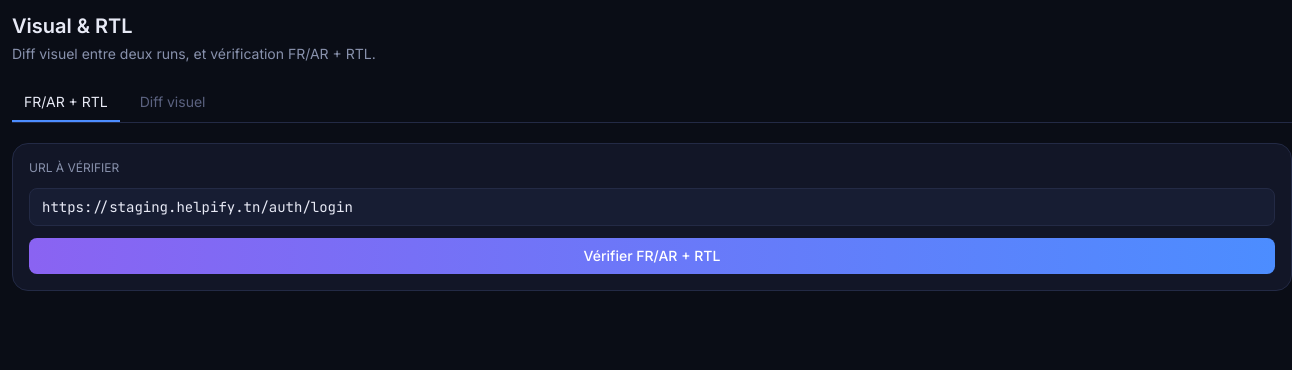
Visual/RTL : onglet FR/AR + RTL › erreur du serveur
The image size is (1292, 370).
Click the button "Vérifier FR/AR + RTL" at x=652, y=256, box [29, 238, 1275, 274]
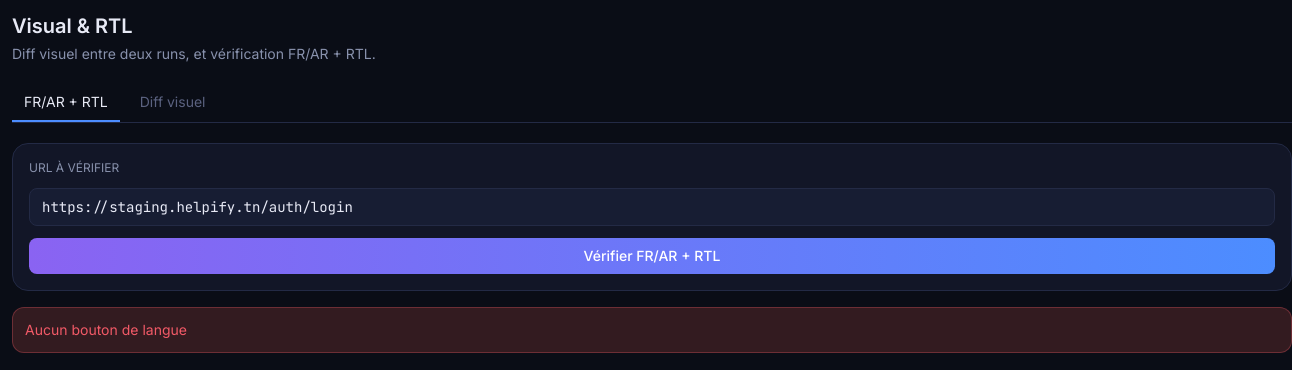
Expected: the text "Aucun bouton de langue" is shown, [12, 307, 1291, 353]
